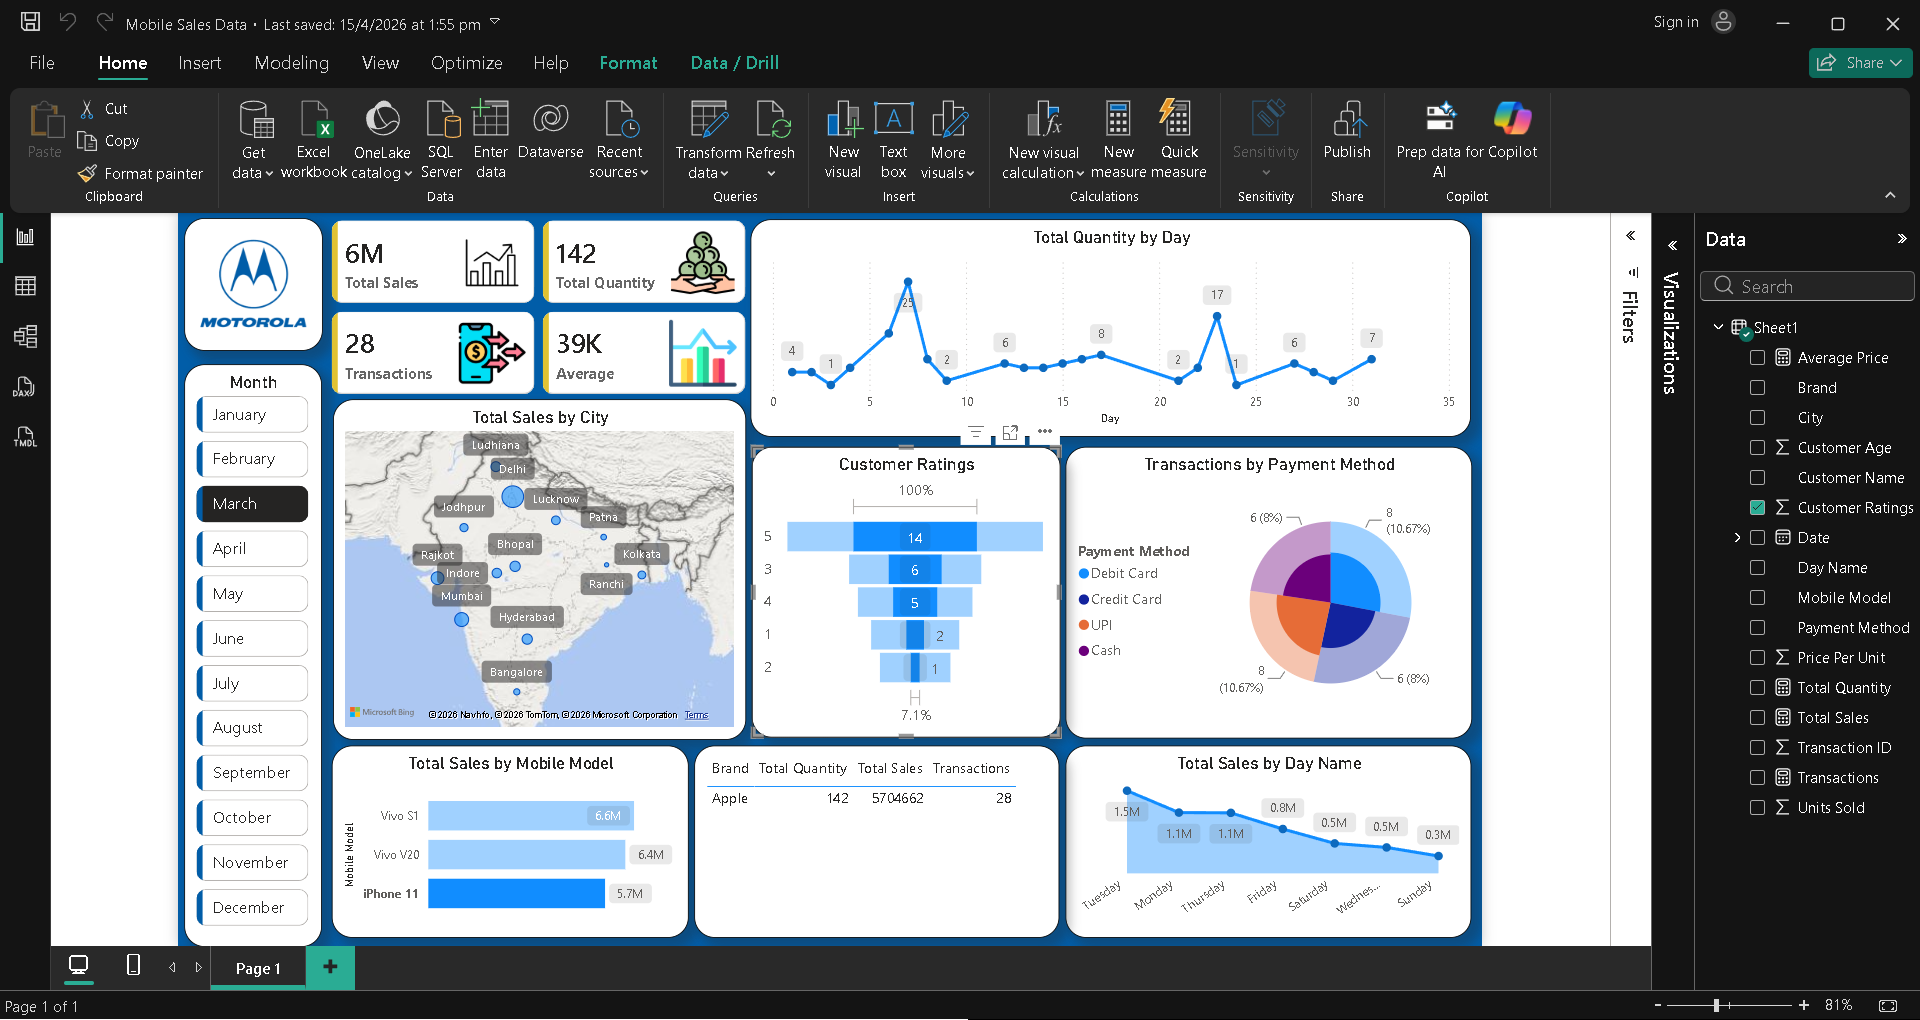

Layout of this report page (visuals, bound fields, positions):
{"tool":"powerbi","page":{"name":"Page 1","canvas":[1280,720],"ordinal":0},"visuals":[{"type":"shape","box":[6.2,5,136.2,130],"z":0},{"type":"image","box":[17.5,17.5,113.8,103.8],"z":1000},{"type":"advancedSlicerVisual","fields":{"Values":["Sheet1.Date.Variation.Date Hierarchy.Month"]},"box":[6.1,148.5,135,571.8],"z":2000},{"type":"cardVisual","fields":{"Data":["Sheet1.Total Sales","Sheet1.Total Quantity","Sheet1.Transactions","Sheet1.Average Price"]},"box":[146.2,2.5,416.2,180],"z":3000},{"type":"map","fields":{"Category":["Sheet1.City"],"Size":["Sheet1.Total Sales"]},"box":[151.7,182.5,405.8,334.2],"z":4000},{"type":"lineChart","fields":{"Category":["Sheet1.Date.Variation.Date Hierarchy.Month","Sheet1.Date.Variation.Date Hierarchy.Day"],"Y":["Sheet1.Total Quantity"]},"box":[562.5,6.2,707.5,213.8],"z":5000},{"type":"clusteredBarChart","fields":{"Category":["Sheet1.Mobile Model"],"Y":["Sheet1.Total Sales"]},"box":[151.4,522.9,350.7,188.6],"z":6000},{"type":"pieChart","fields":{"Category":["Sheet1.Payment Method"],"Y":["Sheet1.Transactions"]},"box":[870.8,230,399.2,286.7],"z":7000},{"type":"funnel","title":"Customer Ratings","fields":{"Category":["Sheet1.Customer Ratings"],"Y":["CountNonNull(Sheet1.Customer Ratings)"]},"box":[562.9,230,302.9,285.7],"z":8000},{"type":"areaChart","fields":{"Category":["Sheet1.Day Name"],"Y":["Sheet1.Total Sales"]},"box":[871.4,522.9,398.6,188.6],"z":9000},{"type":"tableEx","fields":{"Values":["Sheet1.Brand","Sheet1.Total Quantity","Sheet1.Total Sales","Sheet1.Transactions"]},"box":[507.1,522.9,358.6,188.6],"z":10000}]}

Visuals, with their boxes on the page's 1280x720 design canvas (x1, y1, x2, y2). These are canvas units, not pixel positions in the 1920x1020 screenshot, which may show the page scaled, cropped or inside an application window:
shape: <bbox>6, 5, 142, 135</bbox>
image: <bbox>18, 18, 131, 121</bbox>
advancedSlicerVisual - Sheet1.Date.Variation.Date Hierarchy.Month: <bbox>6, 148, 141, 720</bbox>
cardVisual - Sheet1.Total Sales x Sheet1.Total Quantity: <bbox>146, 2, 562, 182</bbox>
map - Sheet1.City x Sheet1.Total Sales: <bbox>152, 182, 558, 517</bbox>
lineChart - Sheet1.Date.Variation.Date Hierarchy.Month x Sheet1.Date.Variation.Date Hierarchy.Day: <bbox>562, 6, 1270, 220</bbox>
clusteredBarChart - Sheet1.Mobile Model x Sheet1.Total Sales: <bbox>151, 523, 502, 712</bbox>
pieChart - Sheet1.Payment Method x Sheet1.Transactions: <bbox>871, 230, 1270, 517</bbox>
"Customer Ratings" funnel: <bbox>563, 230, 866, 516</bbox>
areaChart - Sheet1.Day Name x Sheet1.Total Sales: <bbox>871, 523, 1270, 712</bbox>
tableEx - Sheet1.Brand x Sheet1.Total Quantity: <bbox>507, 523, 866, 712</bbox>
